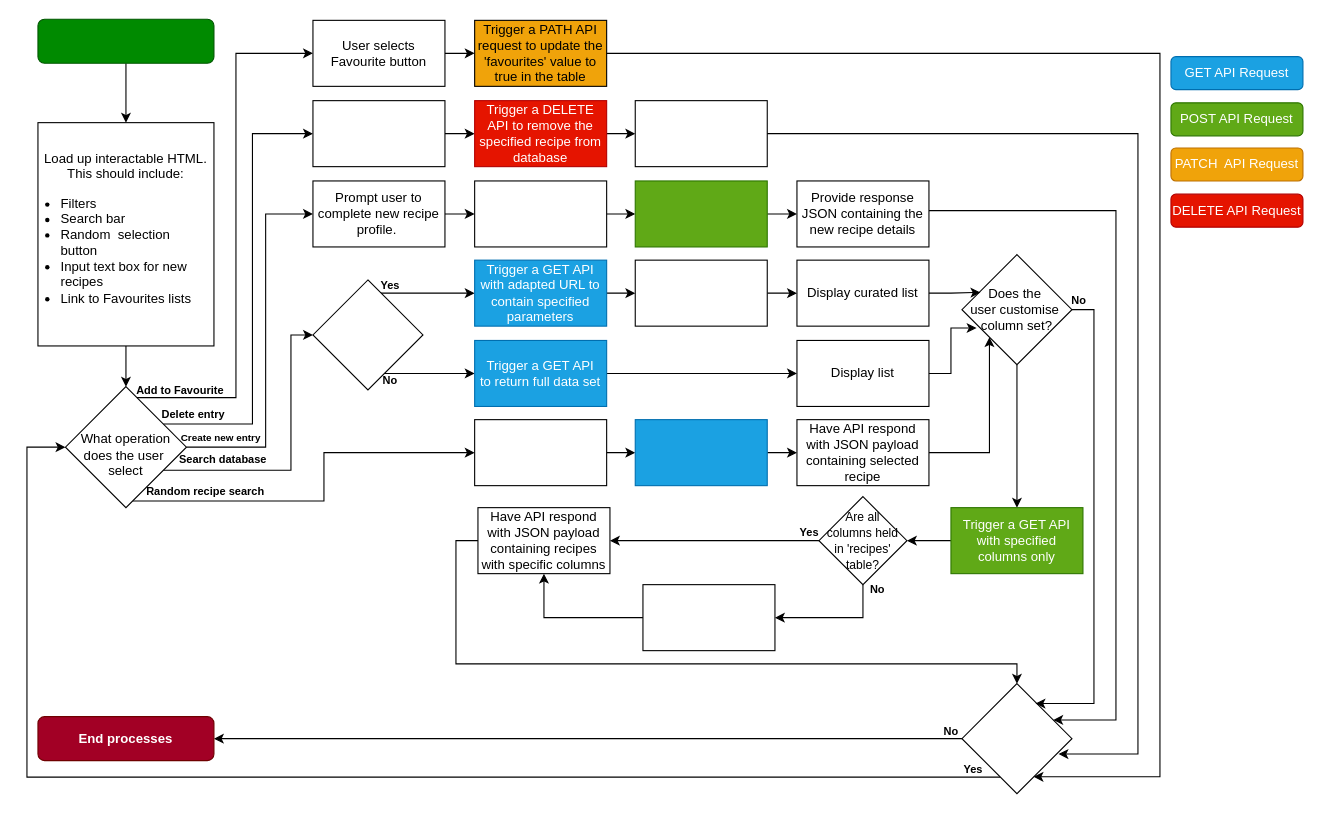
Image size: 1322x813. Some labels were removed from this diagram. The box of each missing label's shape, as (x1, y1, x2, y2) in pixels:
Augment GET API request to JOIN recipes and cuisine tables: (642, 584, 775, 651)
Does they pick another operation?: (961, 683, 1072, 794)
Generate a random ID using created function: (474, 419, 607, 486)
Have API respond with JSON payload containing filtered recipes: (634, 259, 767, 326)
Is the search filtered?: (312, 279, 423, 390)
Isolate the relevant details and assign them to appropriate keys: (474, 180, 607, 247)
Prompt user to give a specific ID: (312, 100, 445, 167)
Provide JSON response containing removed recipe: (634, 100, 767, 167)
Trigger a GET API with generated ID in URL: (634, 419, 767, 486)
Trigger a POST API to create a new recipe with new information: (634, 180, 767, 247)
User goes to localhost:3000: (37, 18, 214, 63)
